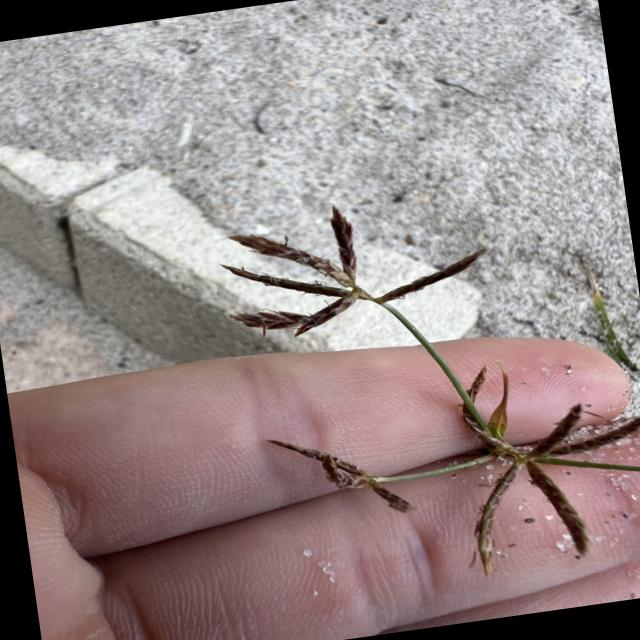cyperus: (199, 161, 640, 614)
